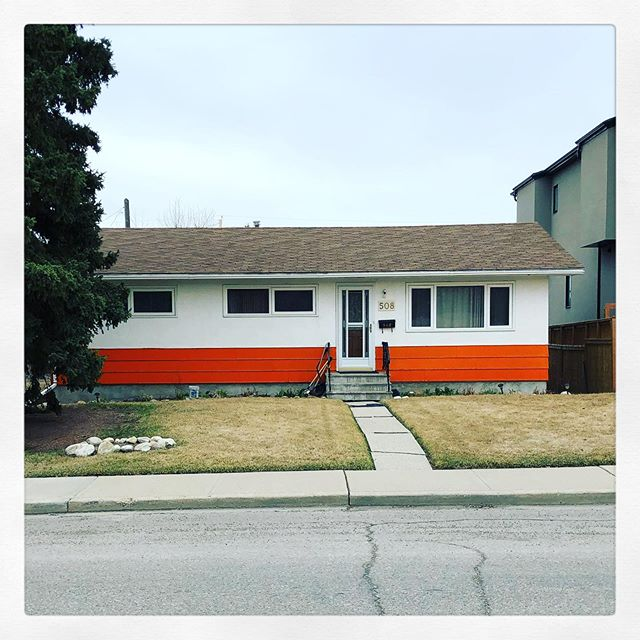building: (93, 219, 548, 401), (512, 121, 617, 325)
grass: (38, 399, 365, 467), (394, 403, 640, 461)
sidewalk: (39, 450, 640, 521)
sky: (107, 29, 609, 219)
street: (32, 502, 618, 614)
tree: (32, 26, 139, 403)
